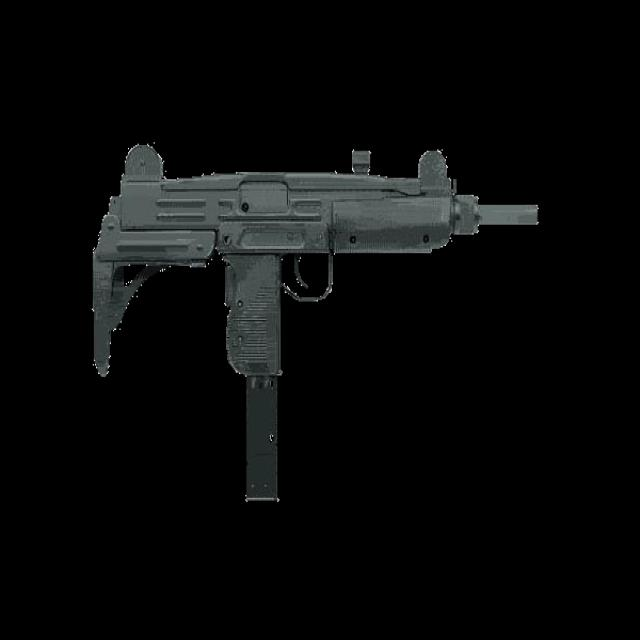firearm: (91, 143, 539, 502)
